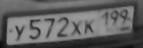license-plateSW: (7, 5, 135, 46)
